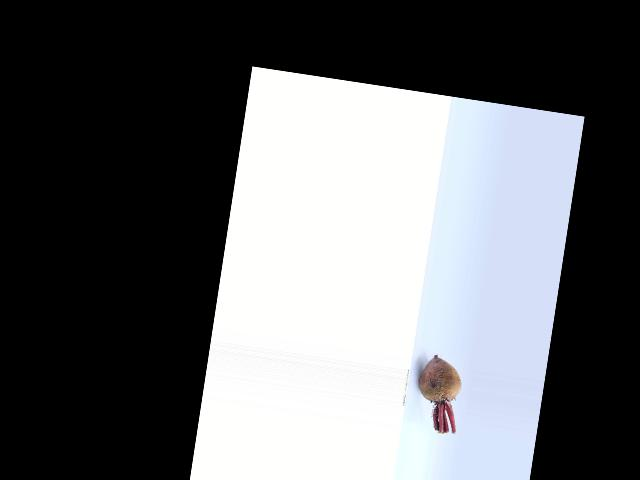beet: (412, 354, 465, 434)
